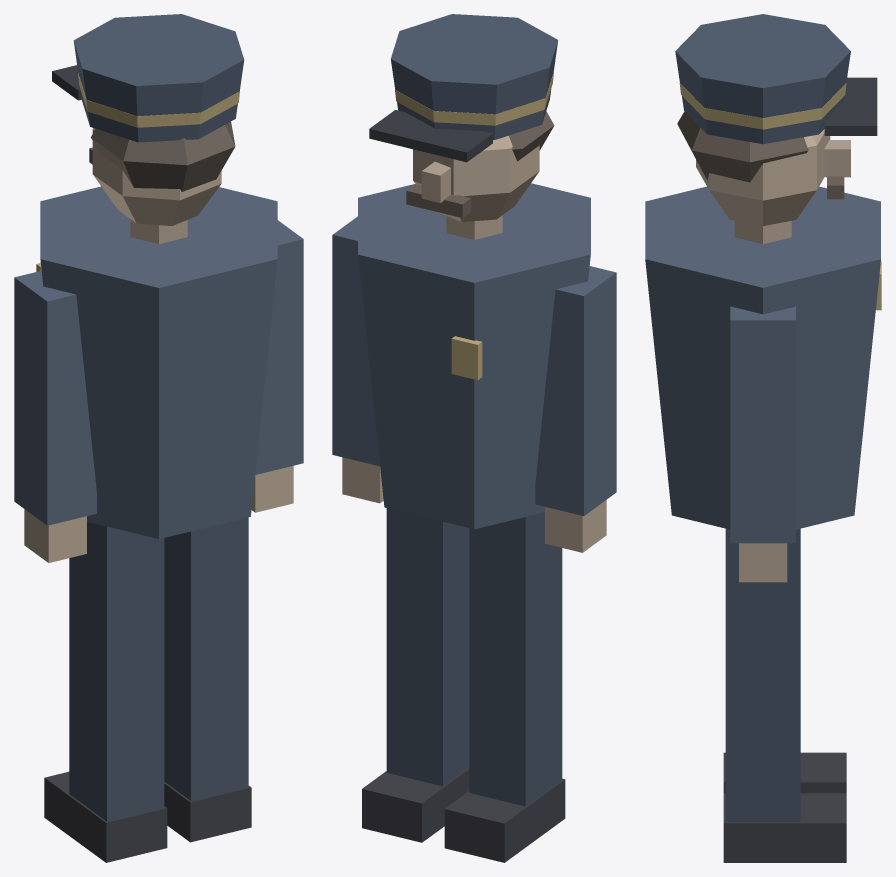
The model's file is personaje_ortega.glb.
3 renders of one model, left to right at view 1: azimuth 30°, elevation 25°; view 2: azimuth 150°, elevation 25°; view 3: azimuth 270°, elevation 25°, orthographic.
Parts seen in each view (by area): view 1: Ortega_Torso, Ortega_PiernaIzq, Ortega_Cabeza, Ortega_PiernaDer, Ortega_BrazoIzq, Ortega_BrazoDer; view 2: Ortega_Torso, Ortega_PiernaIzq, Ortega_Cabeza, Ortega_PiernaDer, Ortega_BrazoIzq, Ortega_BrazoDer; view 3: Ortega_Torso, Ortega_Cabeza, Ortega_PiernaDer, Ortega_BrazoDer, Ortega_PiernaIzq.
Boxes of the visible parts, x1,y1,x2,y2 form: Ortega_Torso: [36, 186, 277, 538]; Ortega_PiernaIzq: [44, 521, 167, 862]; Ortega_Cabeza: [52, 14, 244, 243]; Ortega_PiernaDer: [164, 517, 251, 842]; Ortega_BrazoIzq: [14, 270, 96, 562]; Ortega_BrazoDer: [251, 220, 303, 512]; Ortega_Torso: [358, 183, 590, 529]; Ortega_PiernaIzq: [444, 512, 565, 862]; Ortega_Cabeza: [369, 14, 557, 239]; Ortega_PiernaDer: [362, 508, 469, 842]; Ortega_BrazoIzq: [535, 266, 616, 552]; Ortega_BrazoDer: [332, 216, 383, 503]; Ortega_Torso: [645, 186, 881, 529]; Ortega_Cabeza: [675, 14, 877, 244]; Ortega_PiernaDer: [723, 528, 846, 862]; Ortega_BrazoDer: [730, 306, 795, 582]; Ortega_PiernaIzq: [723, 752, 846, 793].
Size of the model in its own units: 0.67 by 1.95 by 0.5385.
